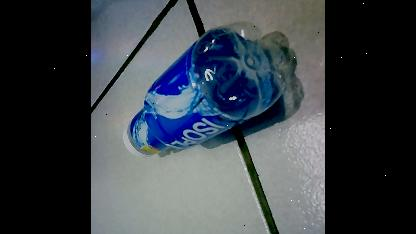Plastic Bottle: (118, 19, 292, 161)
